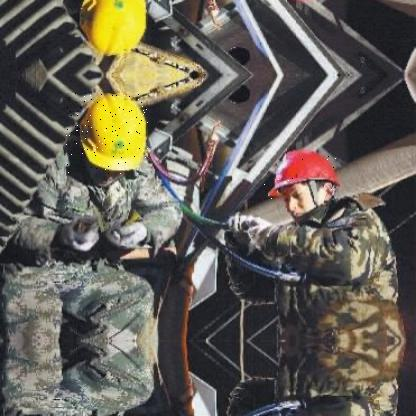safetyhelmet: (66, 94, 149, 176), (263, 146, 338, 202)
